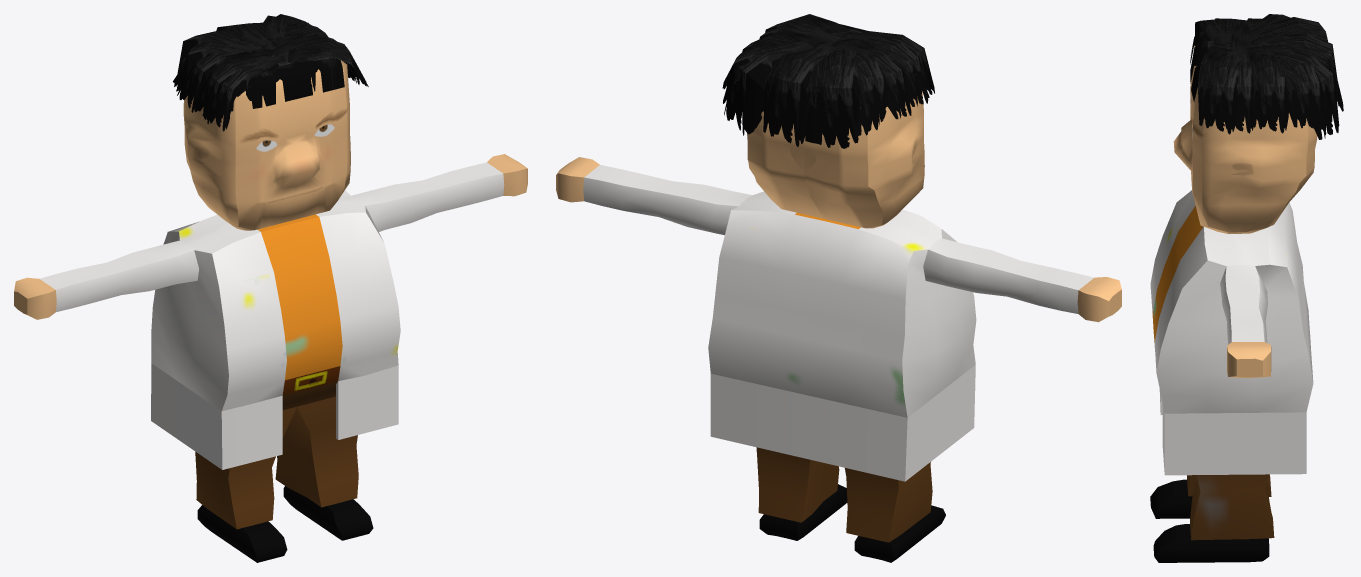
File: pitus.fbx
3 renders of one model, left to right at view 1: azimuth 30°, elevation 25°; view 2: azimuth 150°, elevation 25°; view 3: azimuth 270°, elevation 25°, orthographic. The views are drawn at different scales.
Visible parts, largest first — view 1: Pitus; view 2: Pitus; view 3: Pitus.
Part boxes in pixels (x1,y1,x2,y2): Pitus: (14, 14, 527, 562); Pitus: (556, 14, 1121, 562); Pitus: (1150, 14, 1343, 562).
Size of the model in its own units: 19.2 by 17.06 by 6.13.
